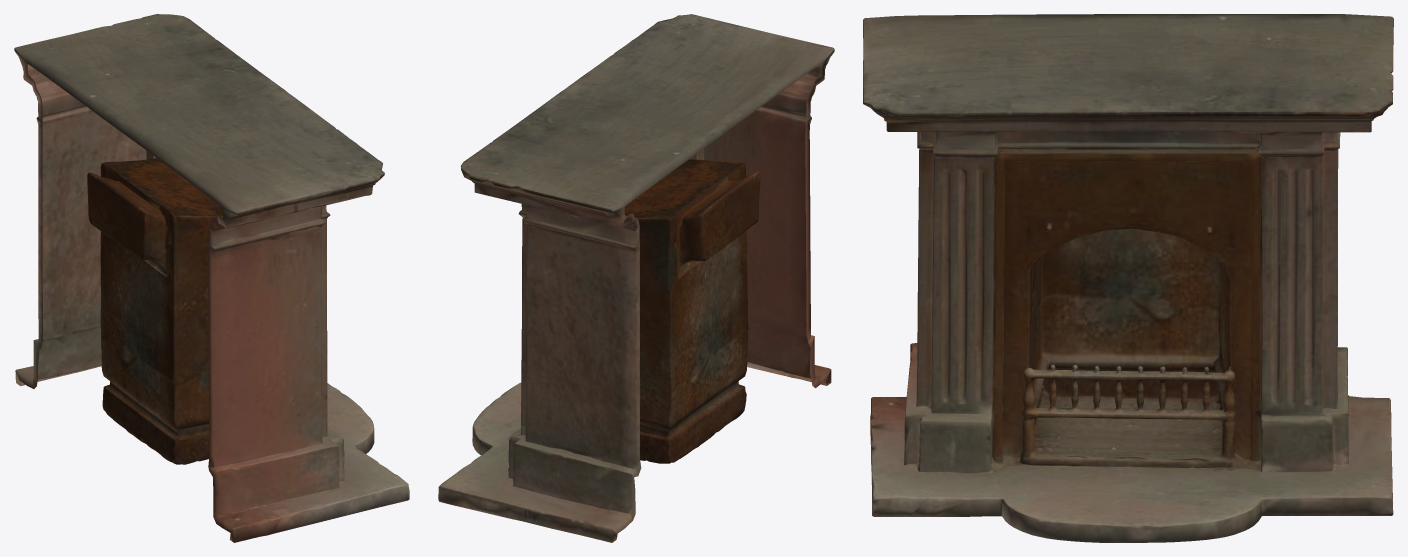
File: fireplace-mobile.glb
3 views of the same model, side by side, from view 1: azimuth 30°, elevation 25°; view 2: azimuth 150°, elevation 25°; view 3: azimuth 270°, elevation 25° (orthographic). The views are drawn at different scales.
Visible parts, largest first — view 1: ujdjcjxga_LOD0_TIER2_000; view 2: ujdjcjxga_LOD0_TIER2_000; view 3: ujdjcjxga_LOD0_TIER2_000.
Boxes of the visible parts, x1=… form: ujdjcjxga_LOD0_TIER2_000: x1=14, y1=14, x2=409, y2=542; ujdjcjxga_LOD0_TIER2_000: x1=438, y1=14, x2=834, y2=542; ujdjcjxga_LOD0_TIER2_000: x1=863, y1=14, x2=1393, y2=542.
Size of the model in its own units: 0.8239 by 1.15 by 1.38.
Materials: 1 (1 with a texture image).
